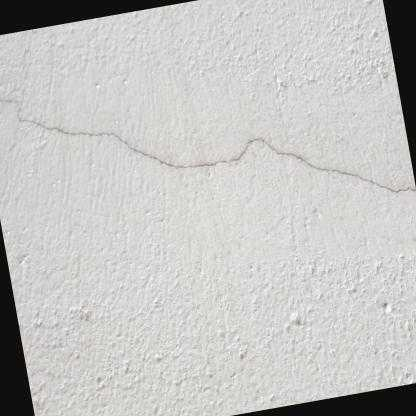crack: (0, 98, 416, 193)
